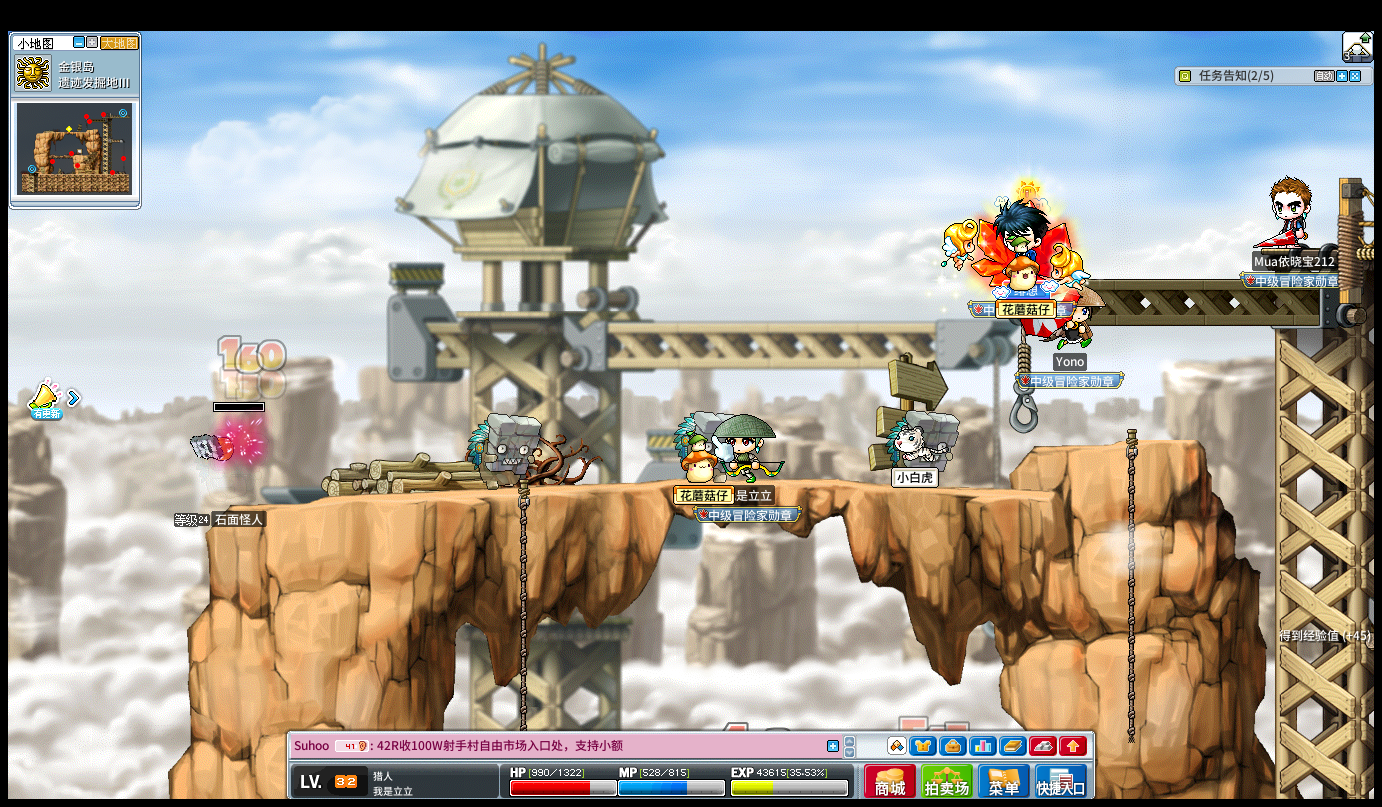floor: (226, 474, 1109, 503), (1037, 438, 1202, 452), (1029, 435, 1200, 448)
monster: (467, 412, 541, 493), (886, 409, 959, 489)
rope: (1123, 425, 1139, 771), (515, 474, 528, 687)
